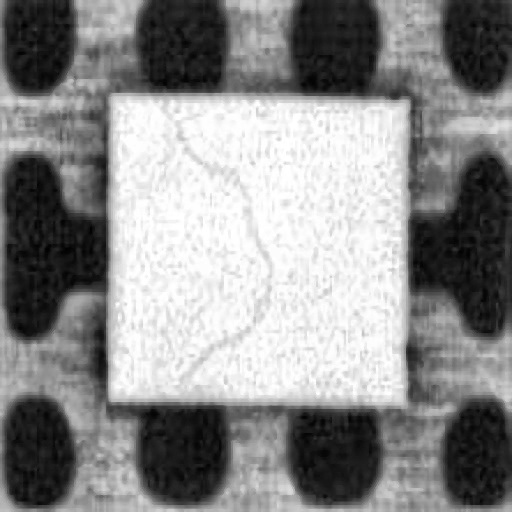DIE_CRACK: (170, 120, 274, 378)
